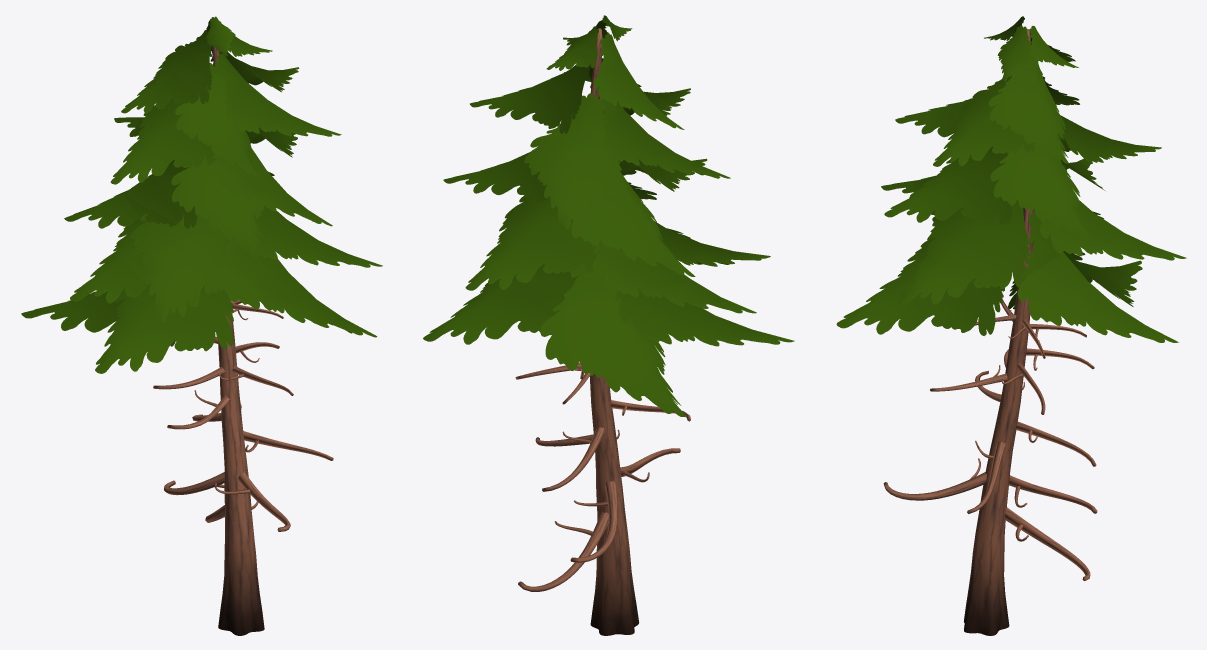
The model's file is Pine_3.gltf.
The picture shows the model from 3 angles, left to right: view 1: azimuth 30°, elevation 25°; view 2: azimuth 150°, elevation 25°; view 3: azimuth 270°, elevation 25°; orthographic projection. The views are drawn at different scales.
Visible parts, largest first — view 1: Pine_3; view 2: Pine_3; view 3: Pine_3.
Boxes of the visible parts, <box> form: Pine_3: <box>21,16,382,635</box>; Pine_3: <box>423,15,794,635</box>; Pine_3: <box>836,16,1186,635</box>.
Size of the model in its own units: 3.61 by 7.39 by 4.
Materials: 2 (2 with a texture image).
